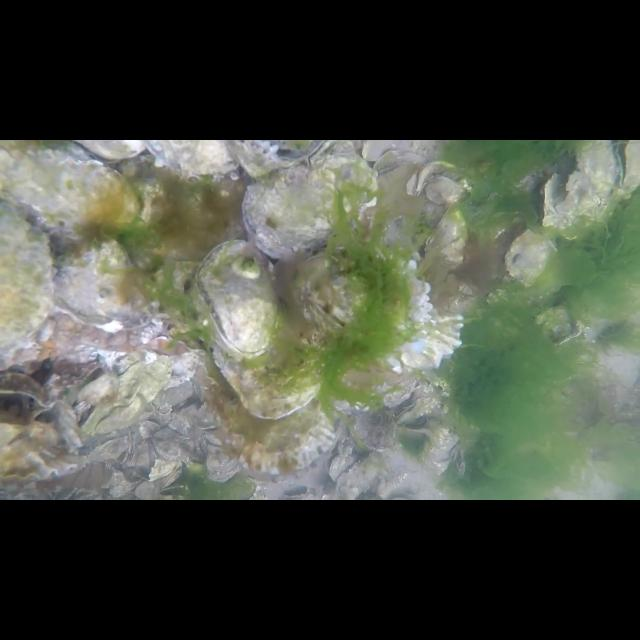Oyster-Closed: (298, 251, 462, 371), (216, 355, 336, 473), (211, 306, 333, 414), (0, 148, 140, 234), (54, 239, 160, 333), (0, 212, 54, 370), (78, 358, 174, 434), (541, 140, 617, 228), (0, 438, 88, 482), (342, 396, 396, 450), (424, 203, 471, 259), (508, 230, 556, 282), (336, 456, 384, 500), (418, 160, 462, 202), (205, 433, 241, 482)
Oyster-Open: (240, 156, 378, 260), (198, 242, 270, 348), (138, 140, 240, 182), (224, 140, 328, 178), (0, 372, 56, 426), (225, 140, 291, 180), (615, 140, 640, 196), (326, 452, 358, 482), (376, 160, 416, 182), (394, 396, 422, 426), (404, 418, 432, 437)
